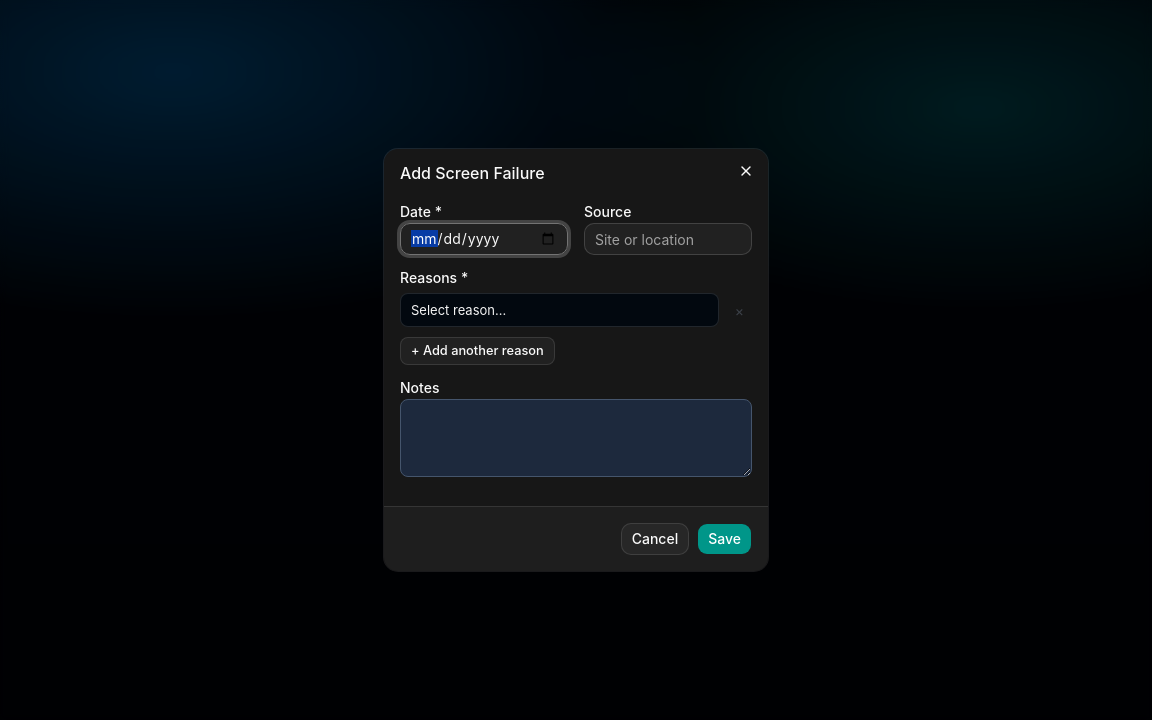
Test case: ScreenFailureForm › shows error when no reason category is selected
Type "2026-04-01" into the date field labelled "Date *" at (484, 239), box top-left (400, 223), bottom-right (568, 255)
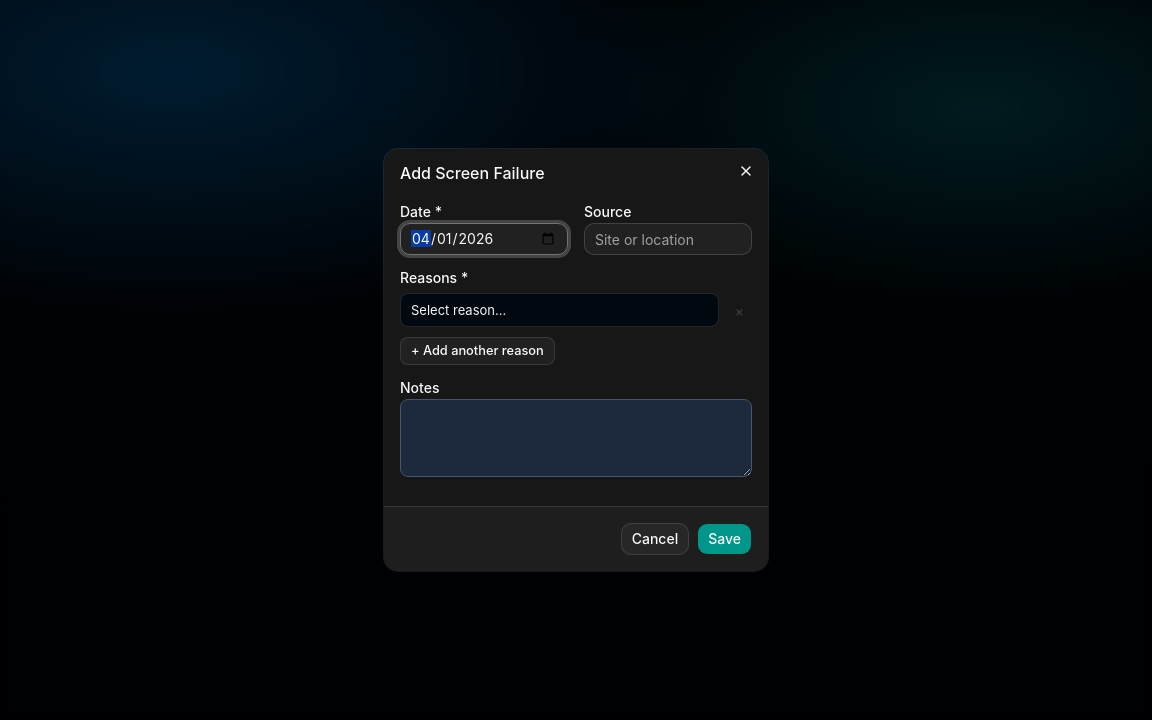
Click the button "Save" at (725, 539), box top-left (697, 523), bottom-right (752, 555)
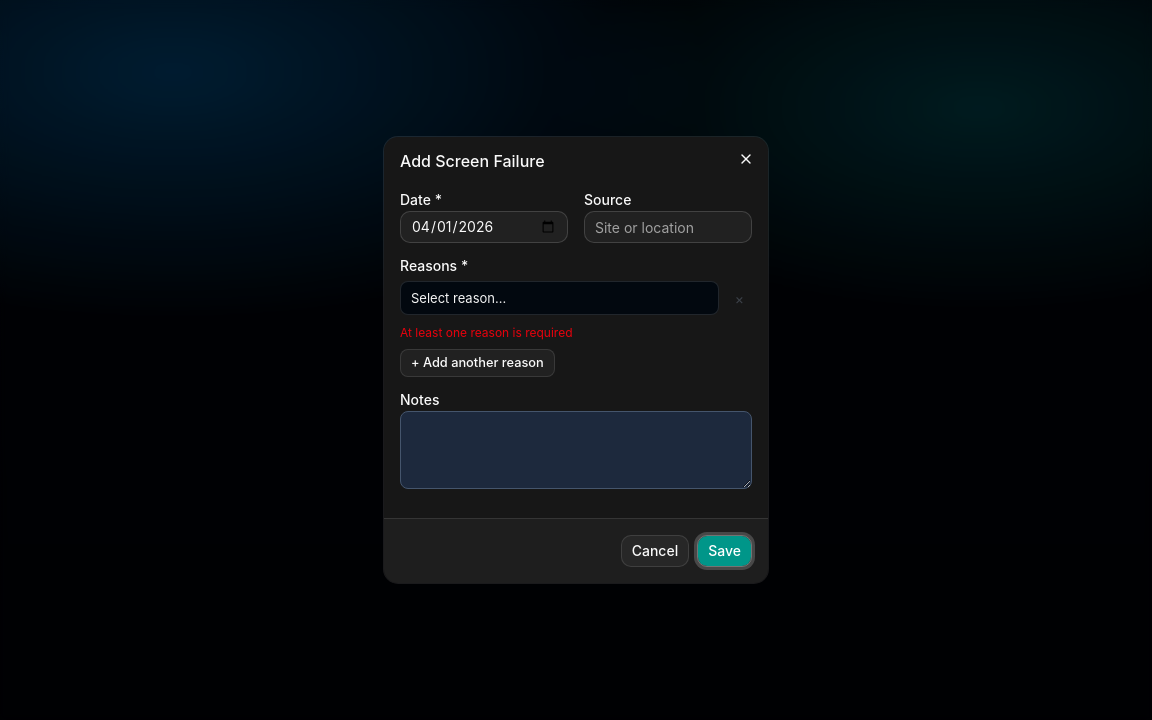
Check: the text "At least one reason is required" is shown, box top-left (400, 325), bottom-right (572, 340)
